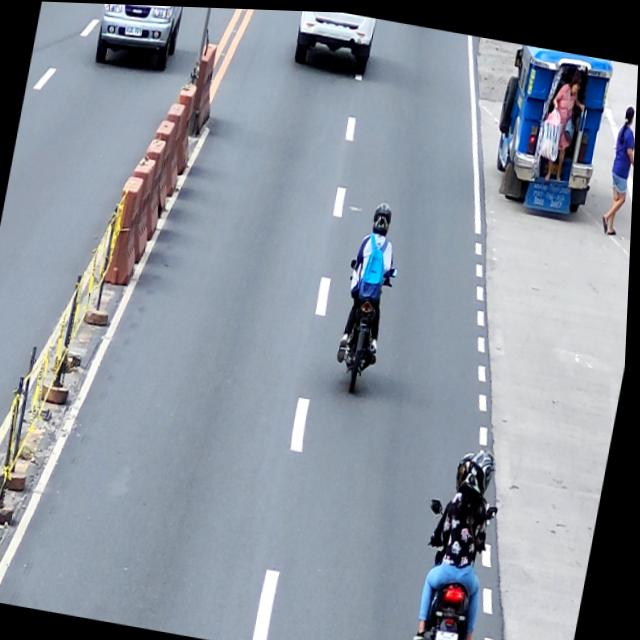Car: (88, 3, 186, 73), (291, 9, 377, 74)
Jeep: (485, 38, 615, 214)
License-Plate: (437, 622, 467, 640), (124, 22, 143, 39)
Motorcycle: (405, 491, 503, 640), (331, 254, 400, 394)
